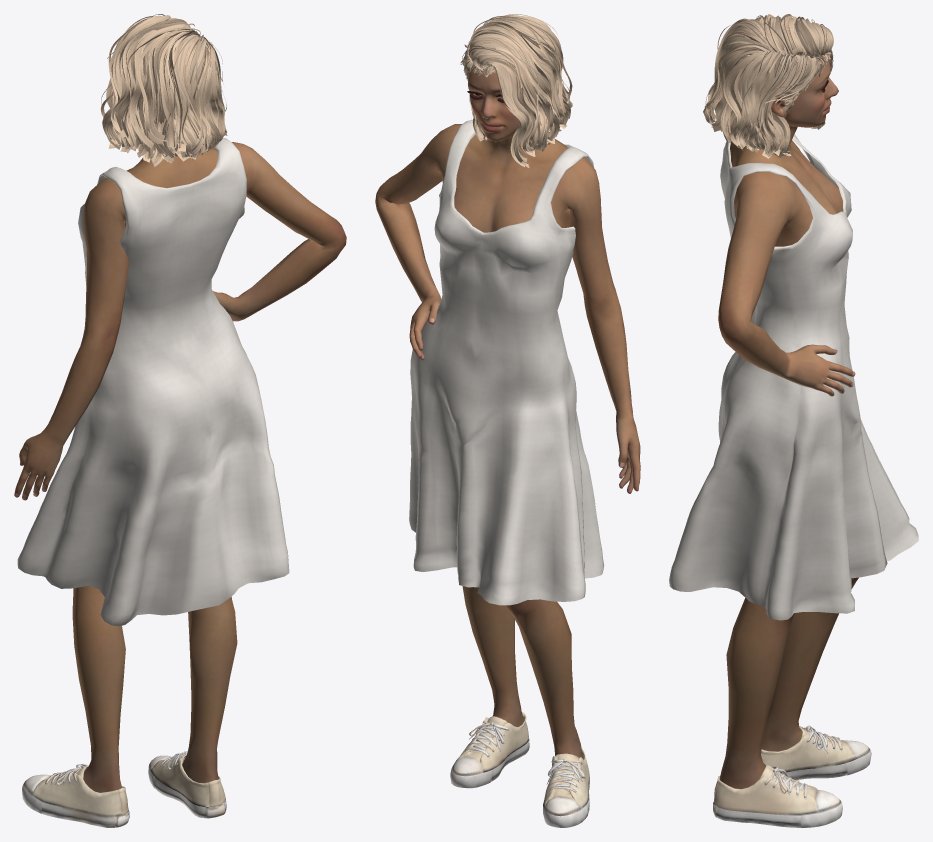
File: dress.glb
3 views of the same model, side by side, from view 1: azimuth 30°, elevation 25°; view 2: azimuth 150°, elevation 25°; view 3: azimuth 270°, elevation 25° (orthographic). The views are drawn at different scales.
Parts seen in each view (by area): view 1: root; view 2: root; view 3: root.
Part boxes in pixels (box(x1,y1,x2,y2)): root: box(14, 14, 346, 827); root: box(375, 14, 640, 827); root: box(669, 14, 918, 827).
Size of the model in its own units: 0.6672 by 1.66 by 0.4749.
1 material, 1 textured.
